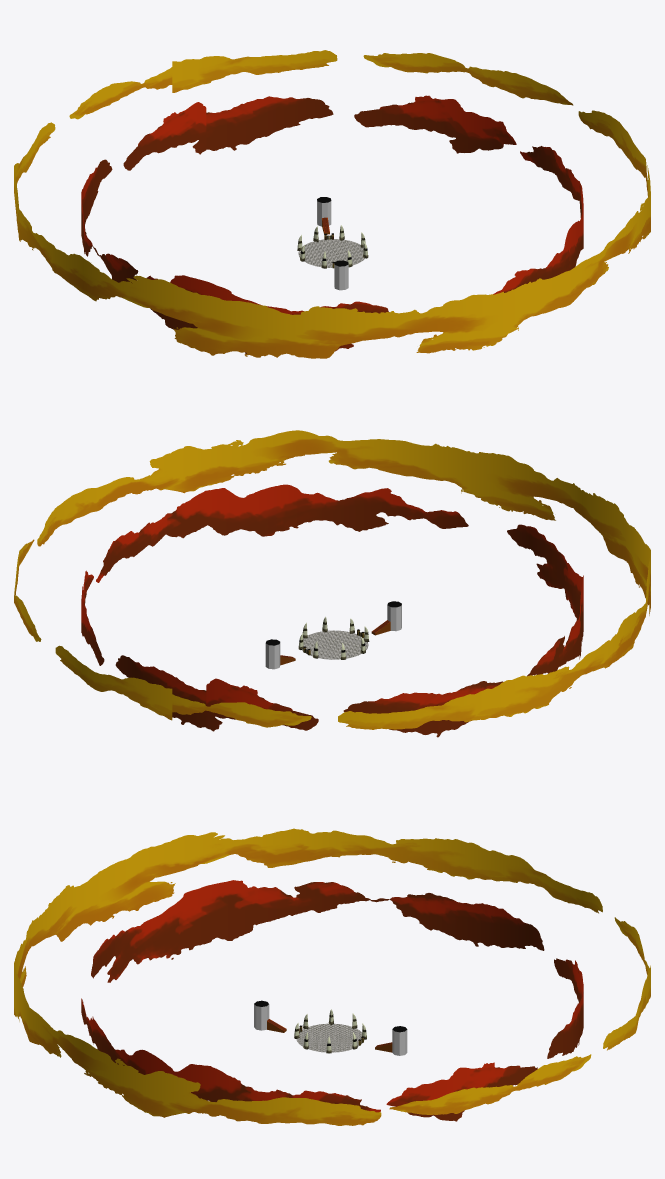
The model's file is GymCastleLevelV2.fbx.
The picture shows the model from 3 angles, top to bottom: view 1: azimuth 30°, elevation 25°; view 2: azimuth 150°, elevation 25°; view 3: azimuth 270°, elevation 25°; orthographic projection.
Visible parts, largest first — view 1: pCylinder5, pCylinder6, polySurface1; view 2: pCylinder5, pCylinder6, polySurface1; view 3: pCylinder5, pCylinder6, polySurface1.
Boxes of the visible parts, box(x1,y1,x2,y2) form: pCylinder5: box(14, 50, 650, 358); pCylinder6: box(81, 95, 583, 353); polySurface1: box(298, 239, 364, 268); pCylinder5: box(14, 430, 650, 729); pCylinder6: box(81, 484, 583, 737); polySurface1: box(302, 630, 368, 659); pCylinder5: box(14, 828, 650, 1125); pCylinder6: box(81, 880, 583, 1121); polySurface1: box(296, 1023, 364, 1052).
Size of the model in its own units: 4358 by 827 by 4358.
